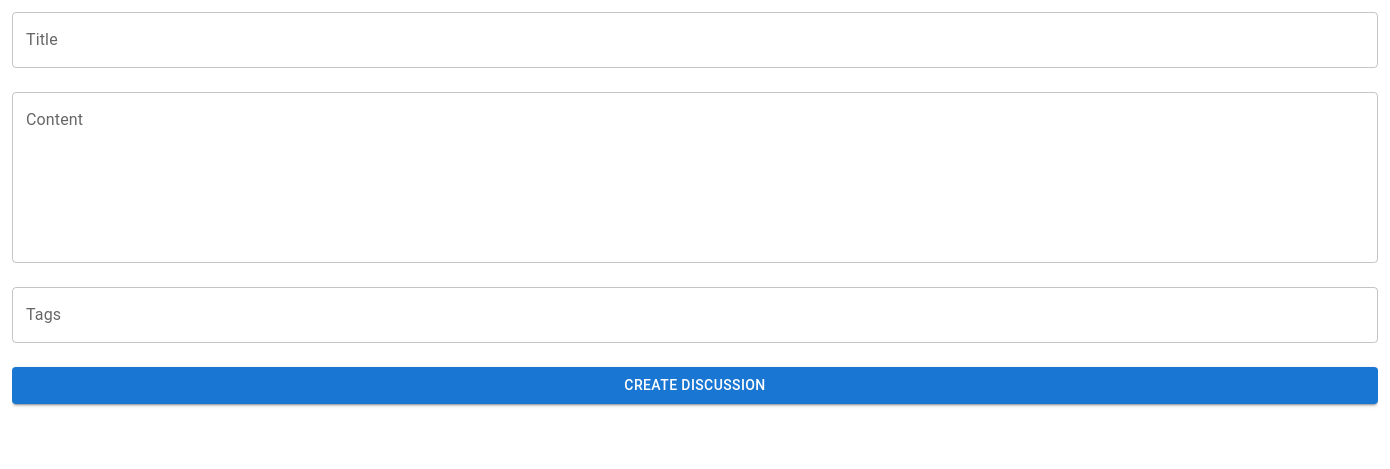
Scenario: DiscussionForm › shows validation error when title is too short
This screenshot has width=1390, height=469.
In the field labelled "Title": (695, 40) [12, 12, 1378, 68], type "Short"
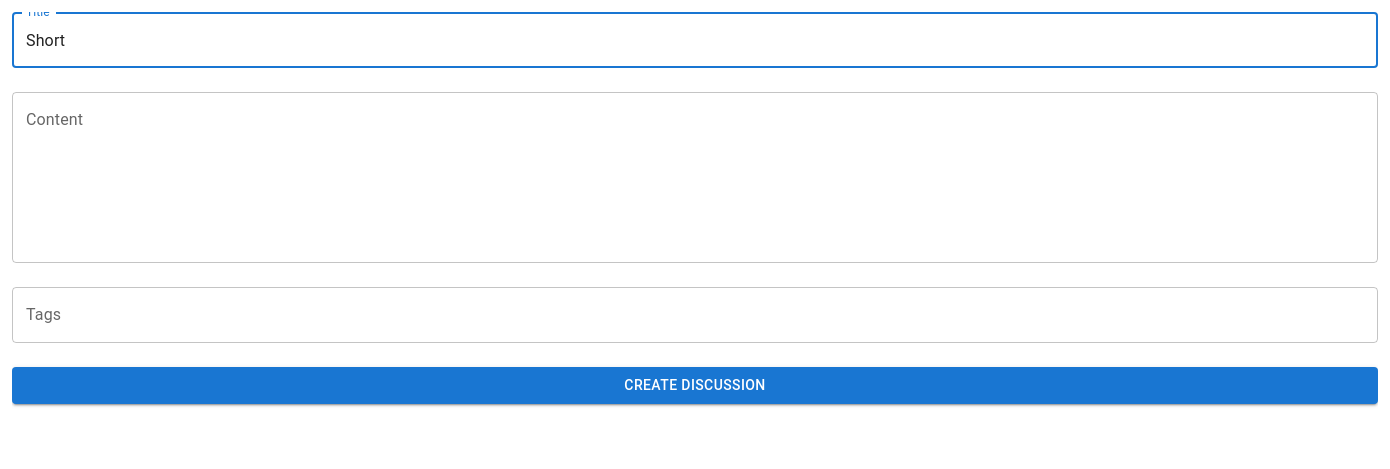
Click the button "Create Discussion": (695, 385) [12, 367, 1378, 404]
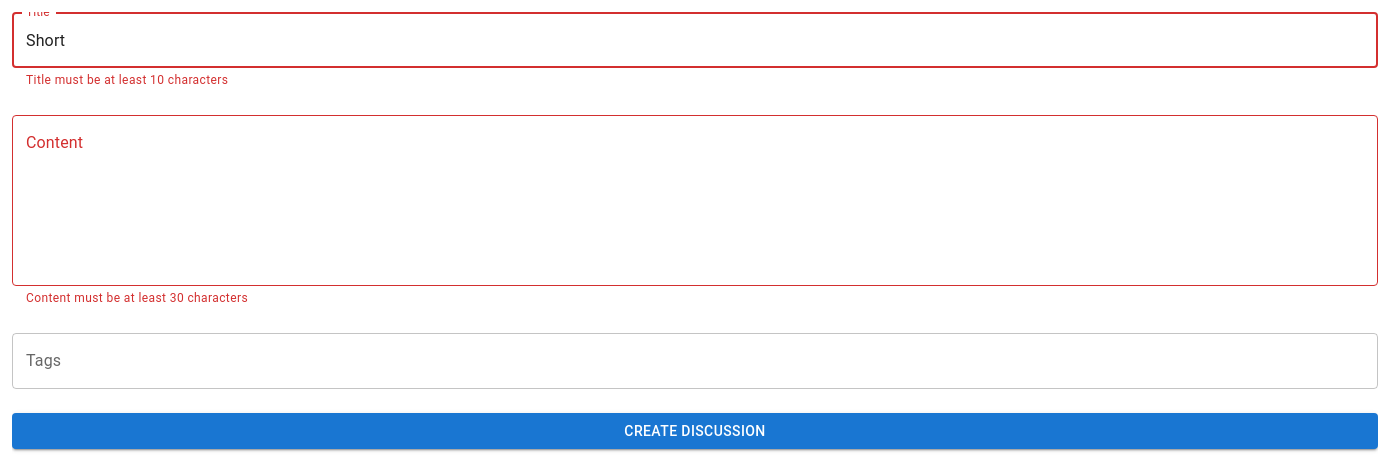
Result: the text "Title must be at least 10 characters" is shown at [26, 73, 228, 87]
